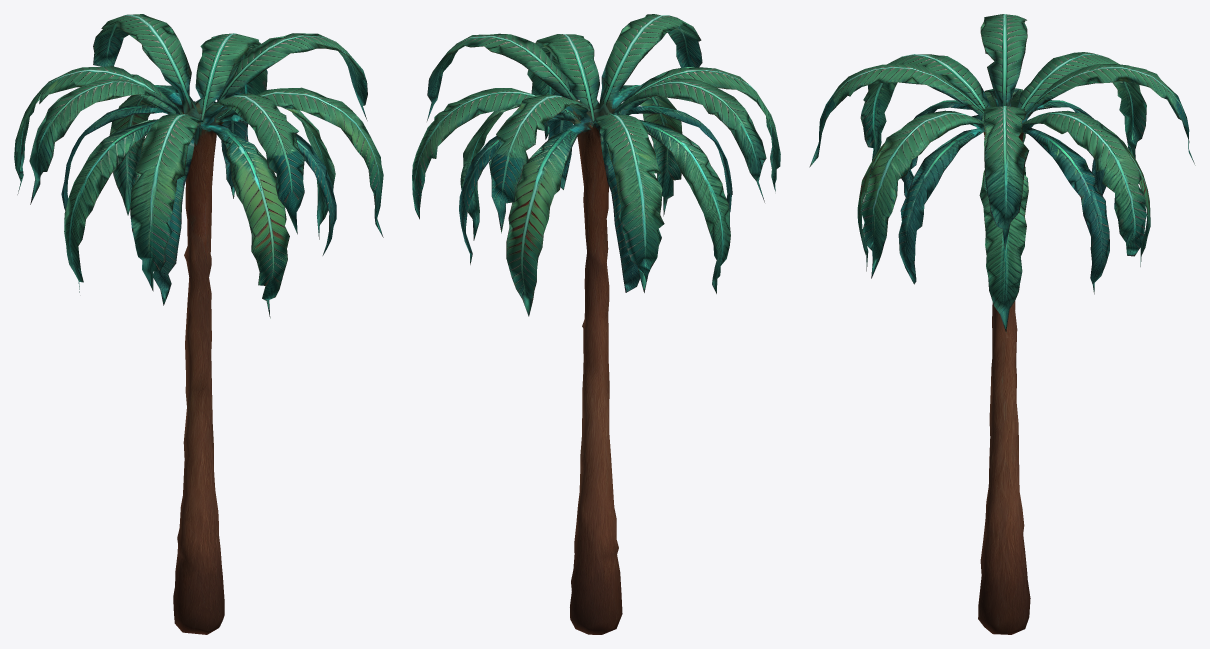
The picture shows the model from 3 angles, left to right: view 1: azimuth 30°, elevation 25°; view 2: azimuth 150°, elevation 25°; view 3: azimuth 270°, elevation 25°; orthographic projection.
Visible parts, largest first — view 1: Mesh_0; view 2: Mesh_0; view 3: Mesh_0.
Boxes of the visible parts, <box> form: Mesh_0: <box>14,14,383,634</box>; Mesh_0: <box>412,14,780,634</box>; Mesh_0: <box>809,14,1195,634</box>.
Size of the model in its own units: 1.19 by 1.91 by 1.19.
1 material, 1 textured.
